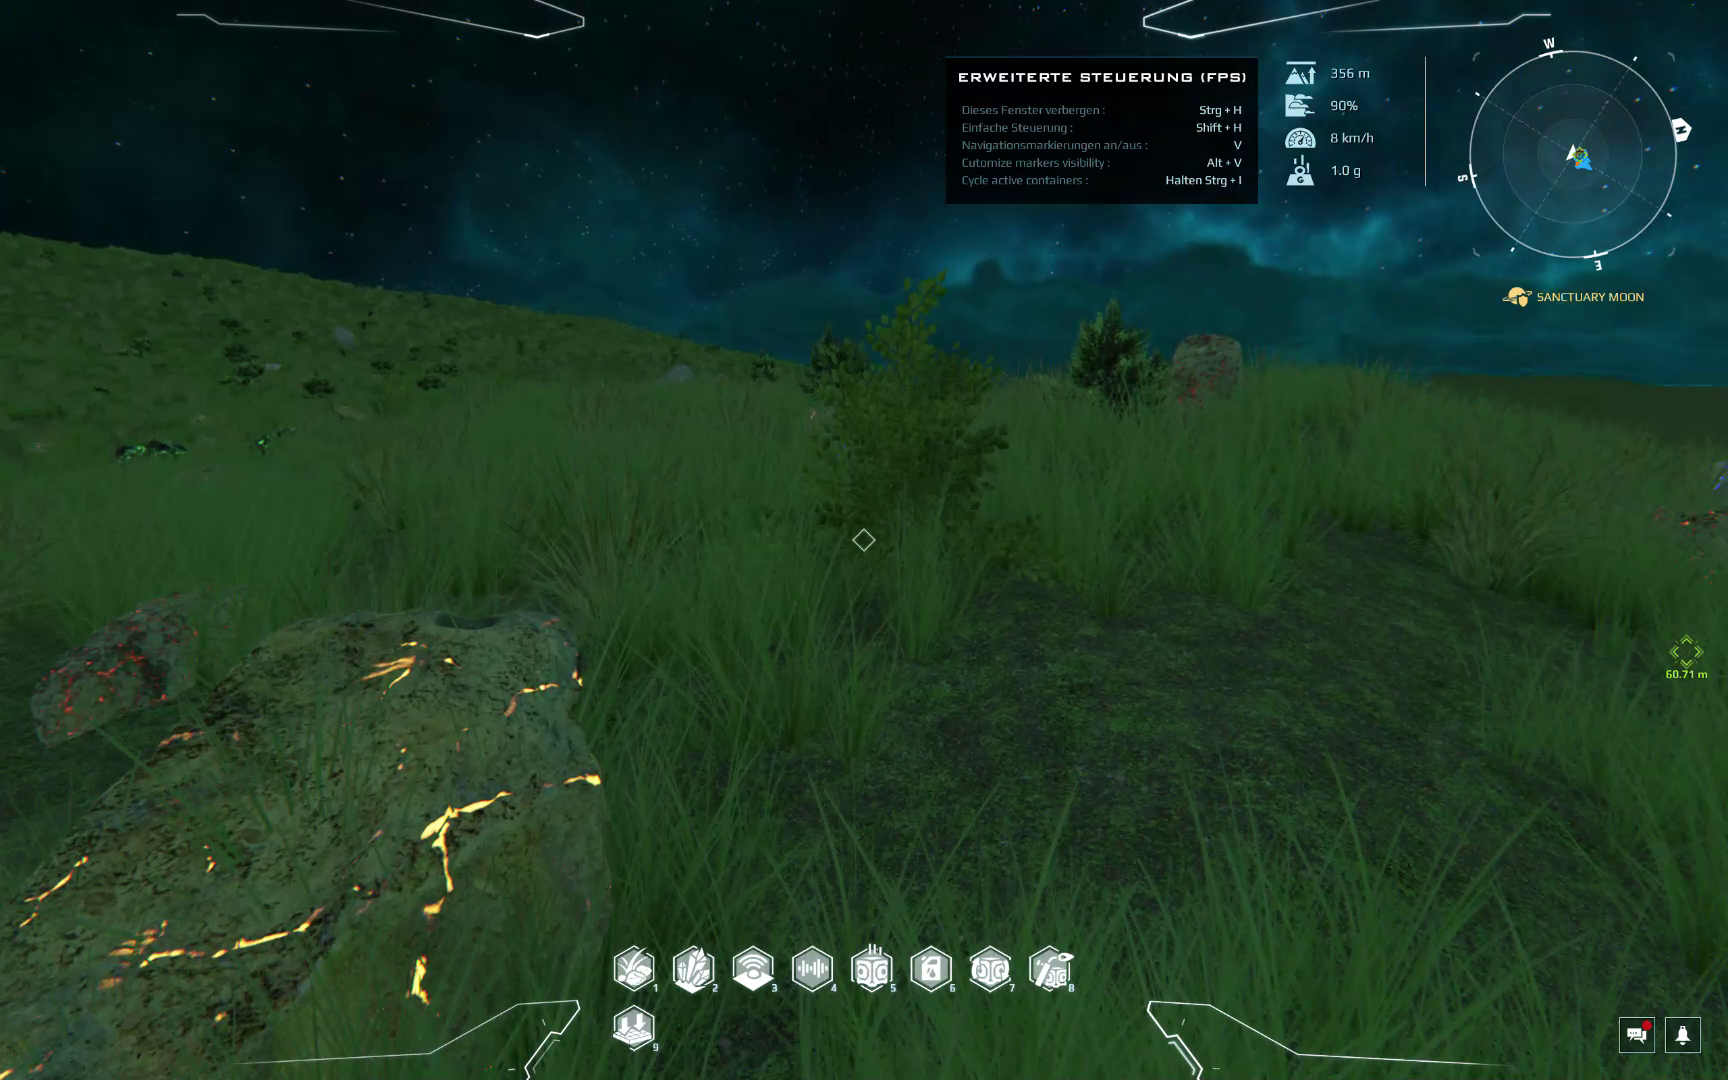Ore: (11, 608, 622, 1080), (29, 586, 204, 743), (1640, 494, 1728, 579), (1163, 330, 1245, 411), (106, 440, 188, 462), (1699, 460, 1728, 504), (249, 431, 276, 460)
